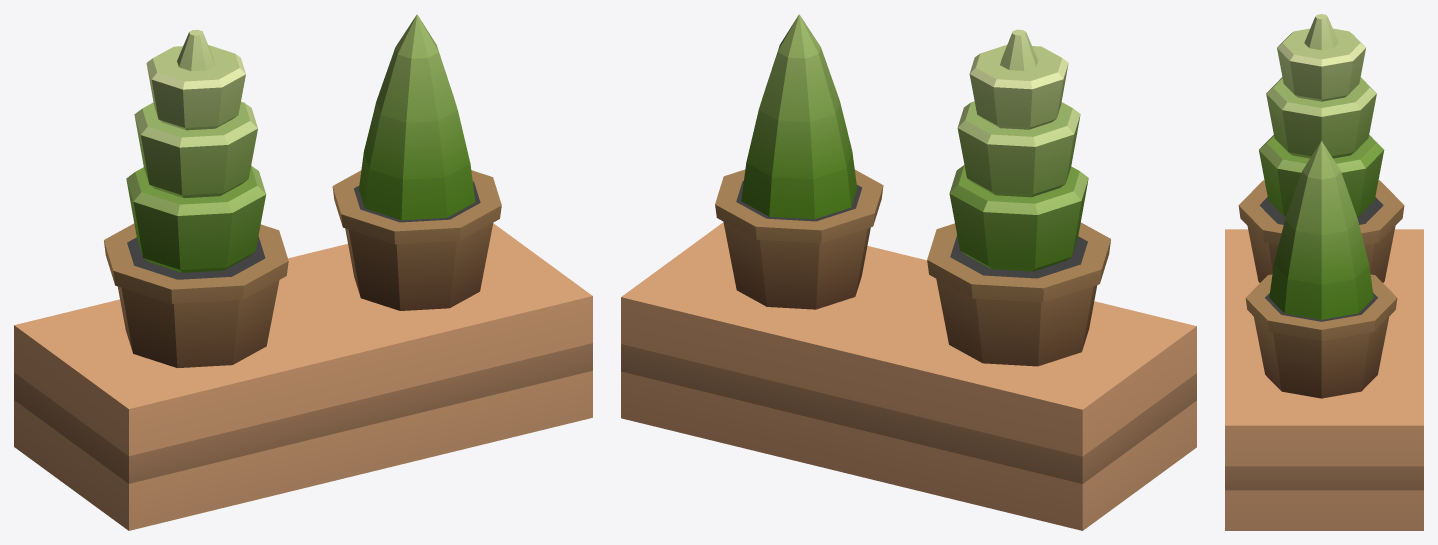
File: flowers stand.fbx
3 renders of one model, left to right at view 1: azimuth 30°, elevation 25°; view 2: azimuth 150°, elevation 25°; view 3: azimuth 270°, elevation 25°, orthographic. The views are drawn at different scales.
Parts seen in each view (by area): view 1: flowers_stand; view 2: flowers_stand; view 3: flowers_stand.
Boxes of the visible parts, left/top/right/bottom form: flowers_stand: left=14, top=14, right=592, bottom=530; flowers_stand: left=621, top=14, right=1196, bottom=530; flowers_stand: left=1225, top=14, right=1423, bottom=530.
Size of the model in its own units: 173 by 153 by 74.31.
Materials: 1 (1 with a texture image).
